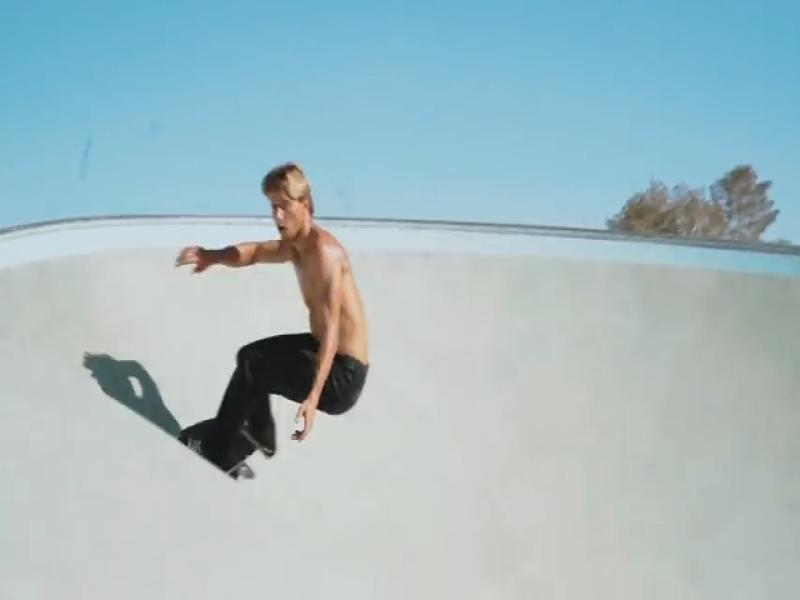person: (177, 163, 367, 481)
